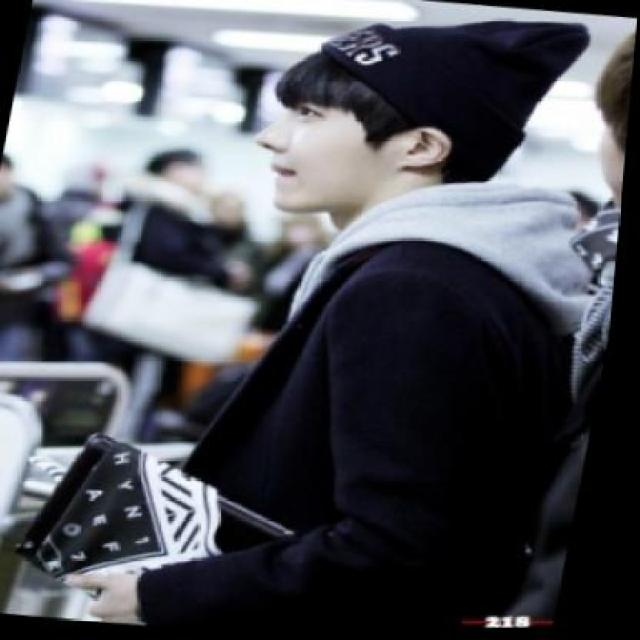hat: (320, 21, 590, 183)
